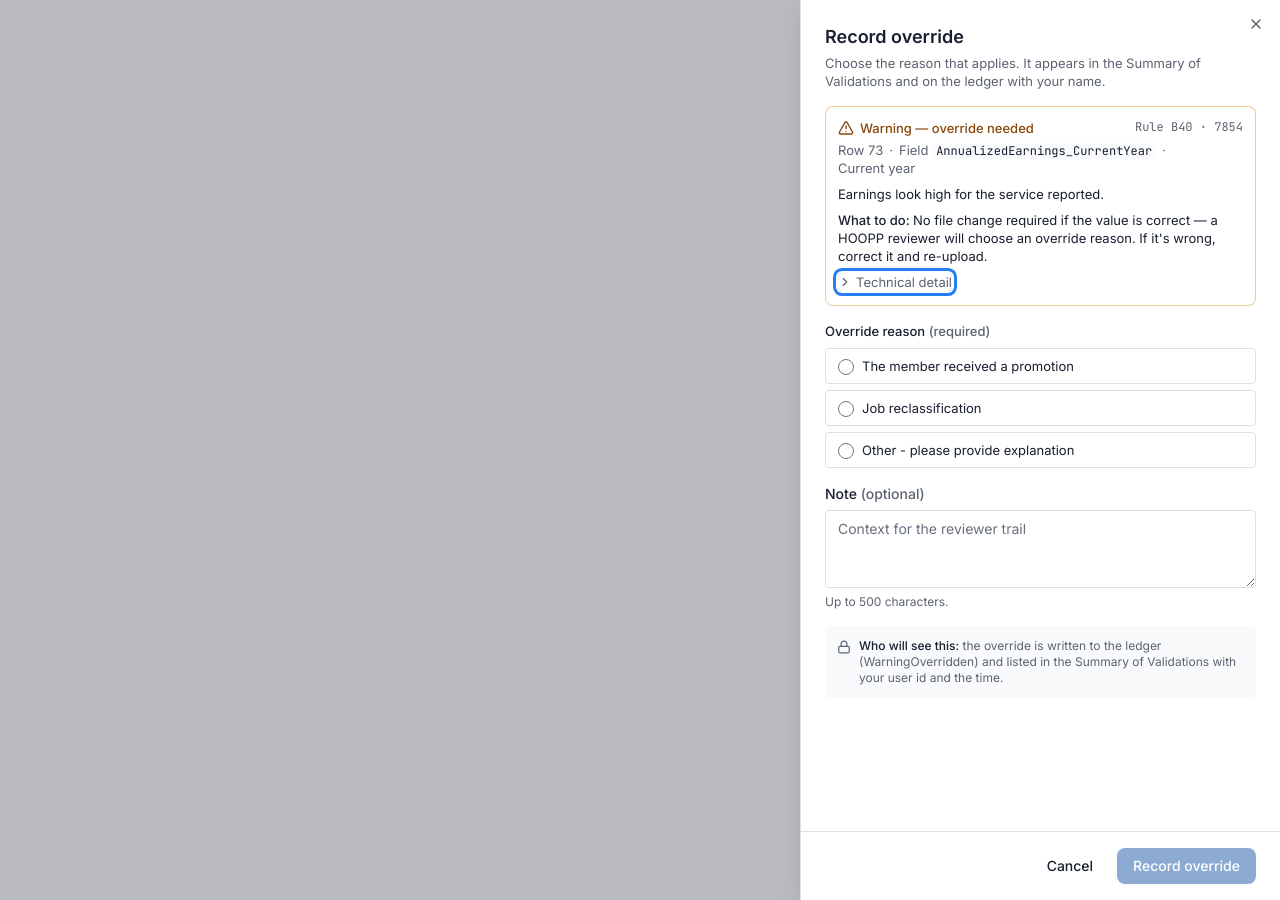
it: OverrideDrawer (ux 4.9 / 6.4 / 7.5) › maps ALREADY_OVERRIDDEN to its UX copy in the inline alert and keeps the drawer open
Expected: the list with test id "override-reasons" is shown, [825, 348, 1256, 468]
Click the radio button labelled "Job reclassification".
click(846, 409)  # box [838, 401, 854, 417]
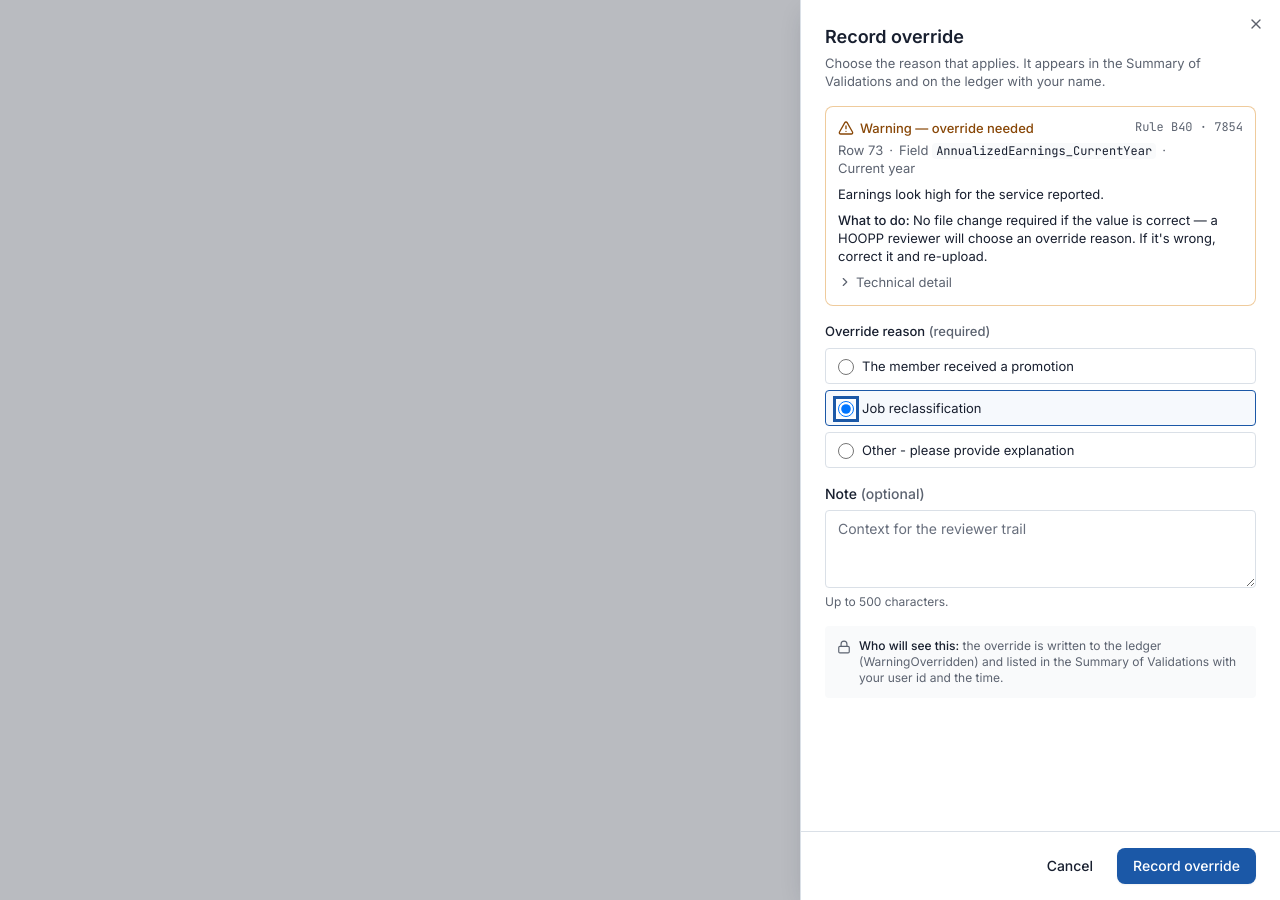
Click the button with test id "override-submit".
click(1187, 866)  # box [1117, 848, 1256, 884]
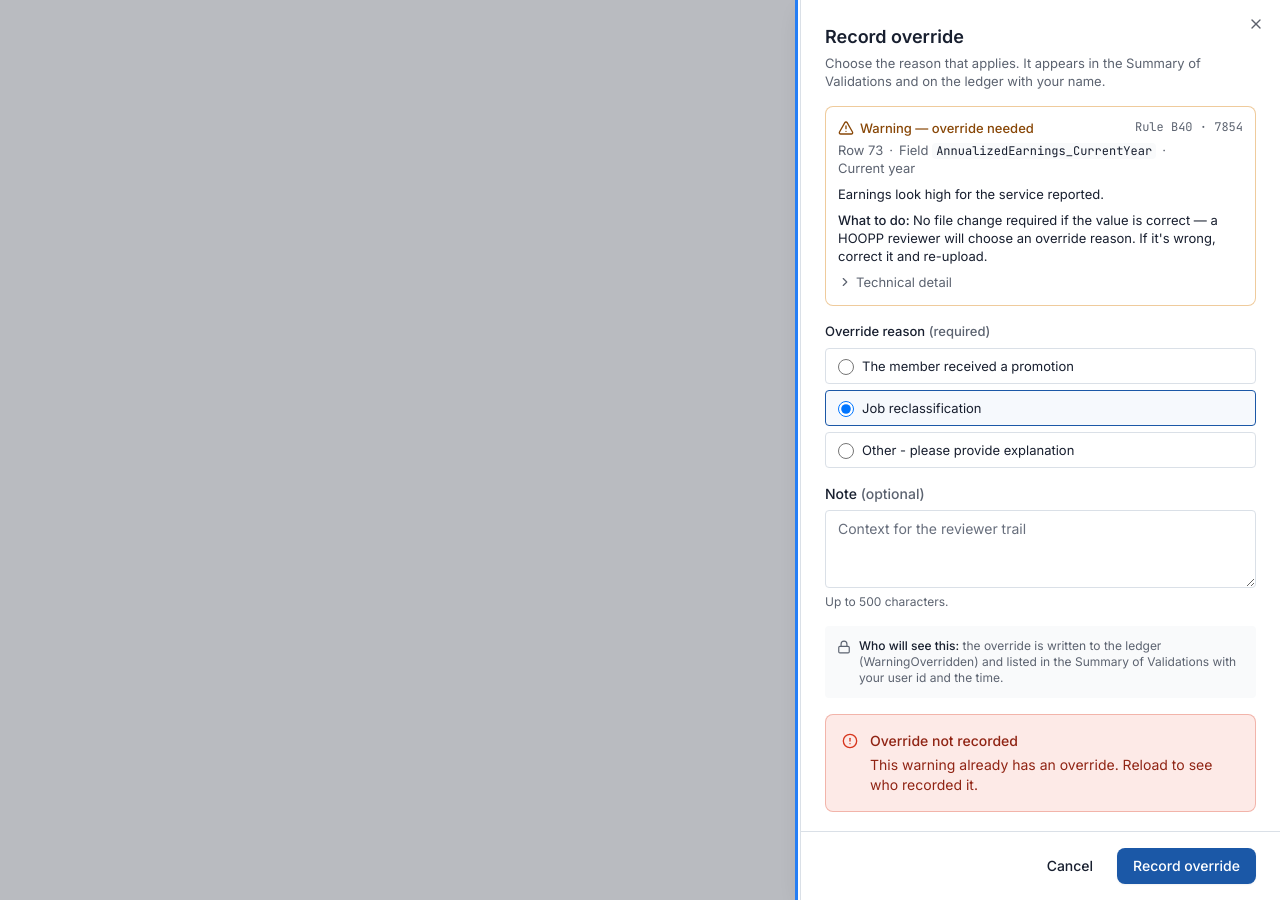
Expected: the message does not show "server text", [825, 714, 1256, 812]
Now the message shows "This warning already has an override. Reload to see who recorded it.", box [870, 756, 1212, 793]
